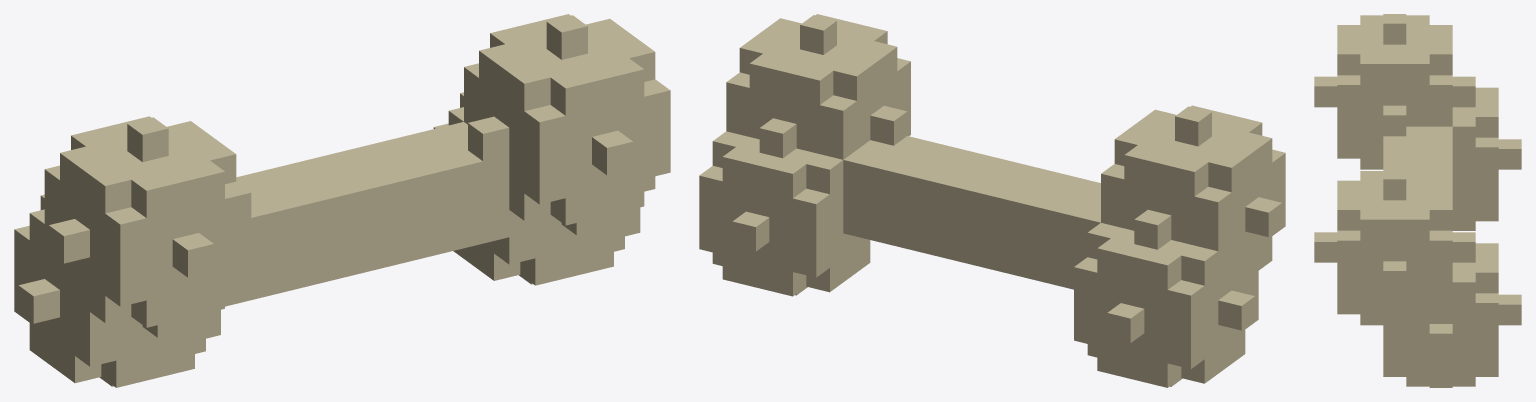
Rendered from pets-08.glb.
The picture shows the model from 3 angles, left to right: view 1: azimuth 30°, elevation 25°; view 2: azimuth 150°, elevation 25°; view 3: azimuth 270°, elevation 25°; orthographic projection. The views are drawn at different scales.
Parts seen in each view (by area): view 1: Chew toy; view 2: Chew toy; view 3: Chew toy.
Boxes of the visible parts, <box> form: Chew toy: <box>14,14,670,387</box>; Chew toy: <box>699,14,1285,387</box>; Chew toy: <box>1314,14,1521,387</box>.
Size of the model in its own units: 1.84 by 0.8 by 0.72.
